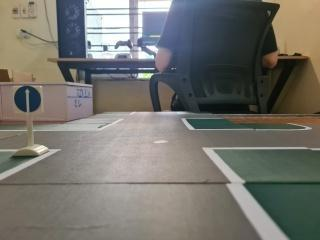straight: (11, 85, 46, 115)
